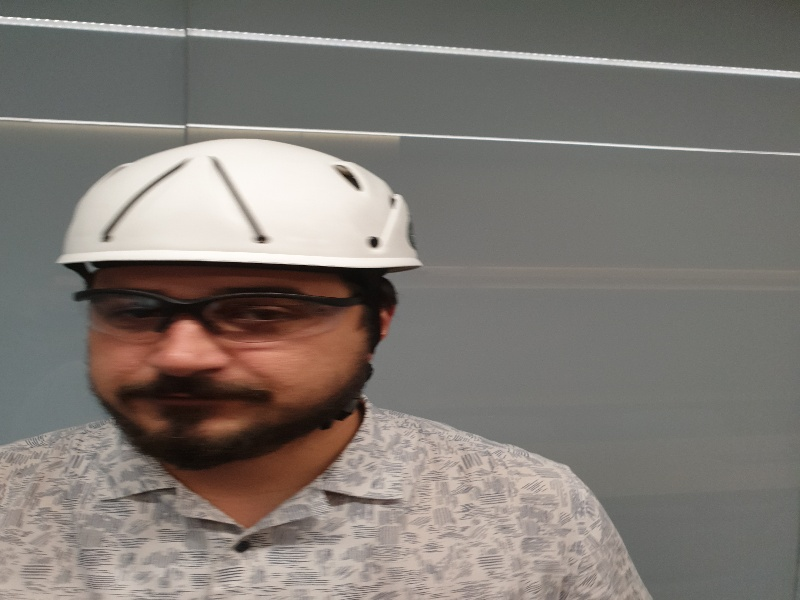Baret: (55, 137, 421, 268)
Gozluk: (71, 284, 382, 339)
